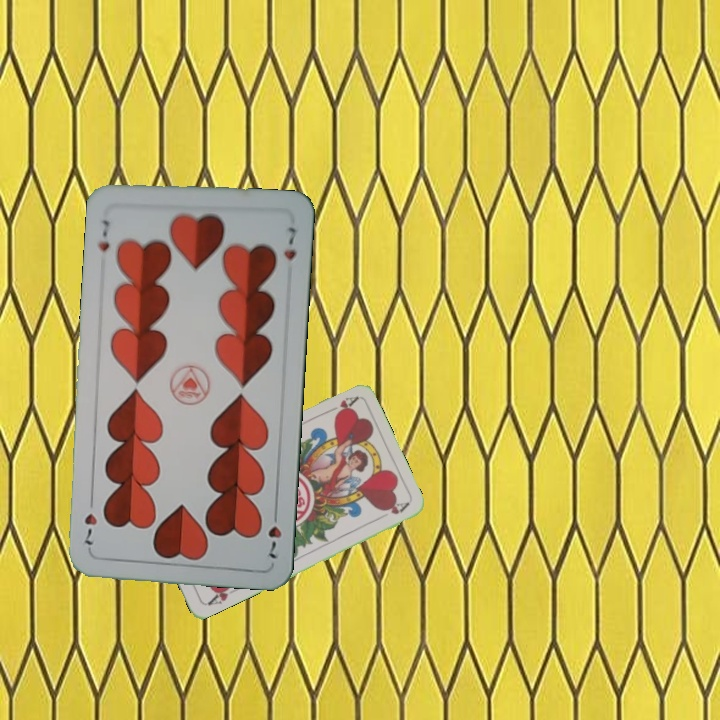H7: (264, 505, 284, 561), (94, 216, 113, 254)
HA: (203, 579, 240, 609), (321, 392, 360, 419)
